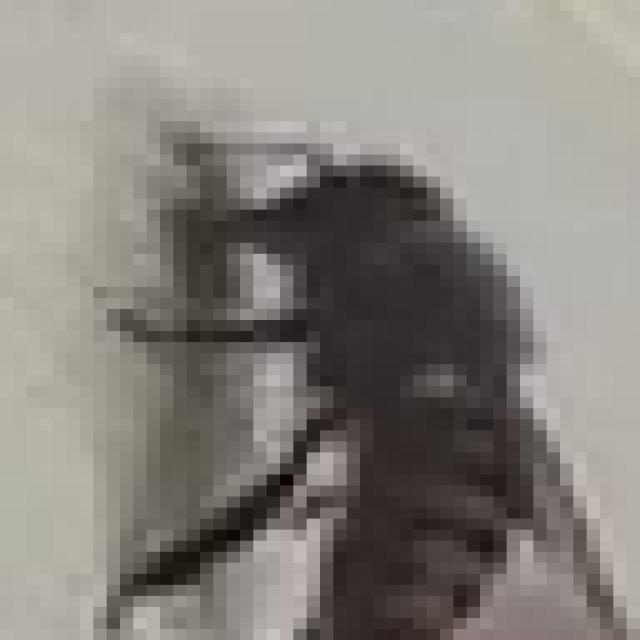honeybee: (111, 103, 578, 611)
